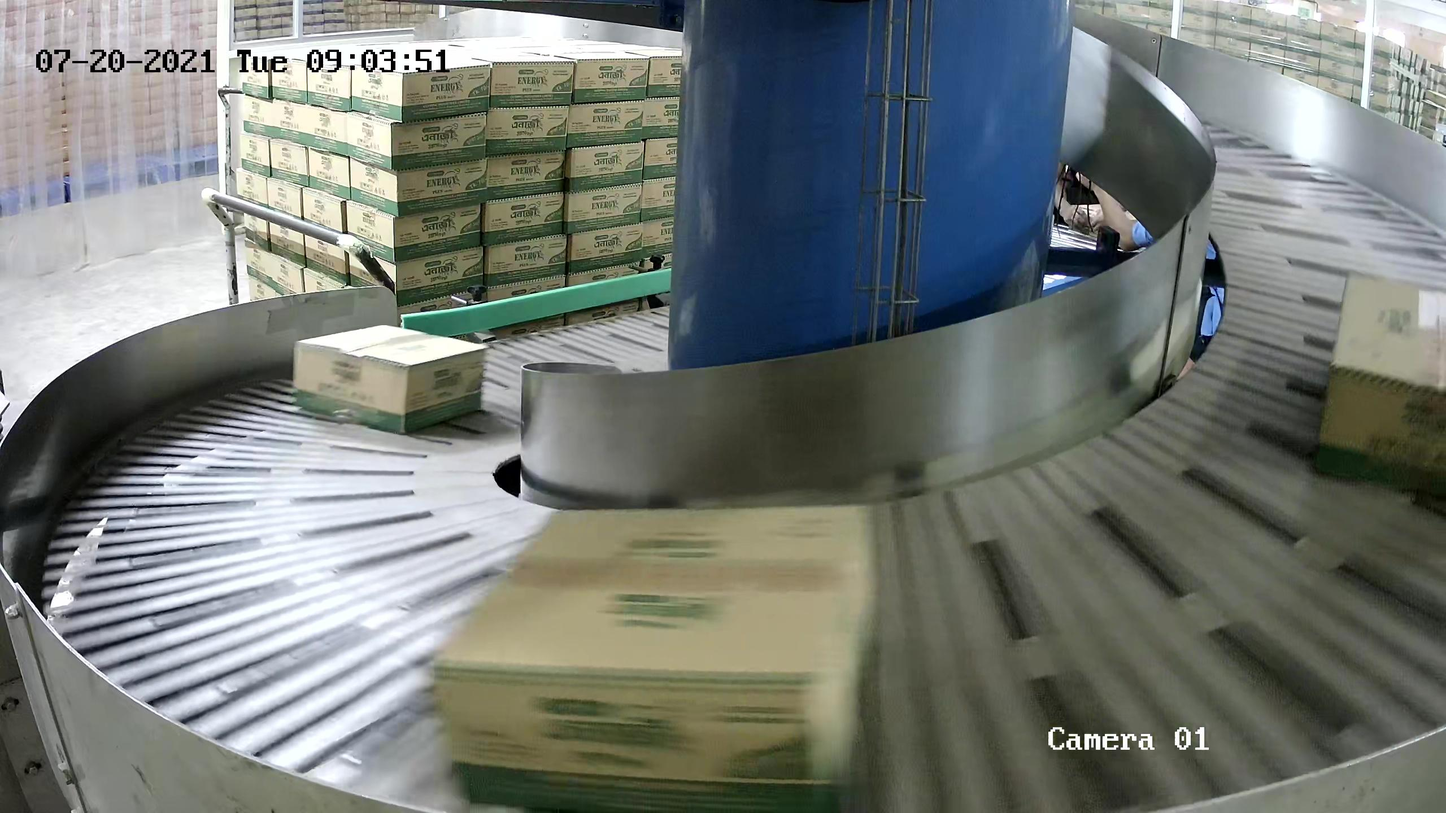Box: (433, 502, 884, 813), (1306, 268, 1446, 508), (294, 324, 487, 435)
